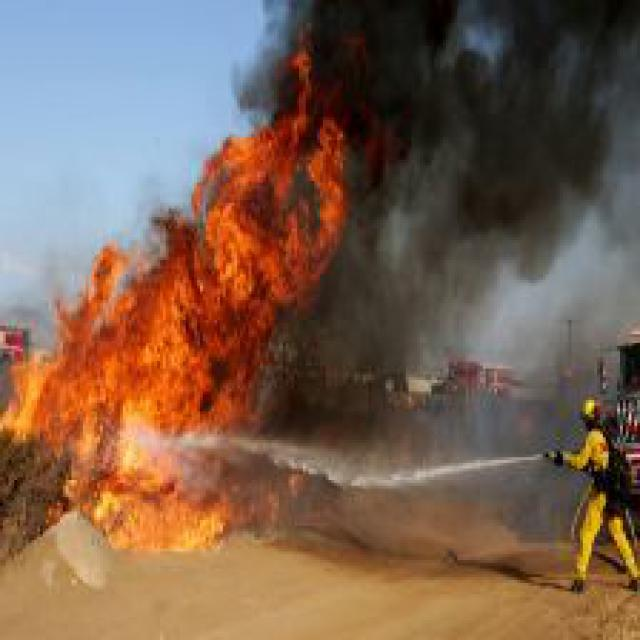fire: (3, 100, 377, 551)
